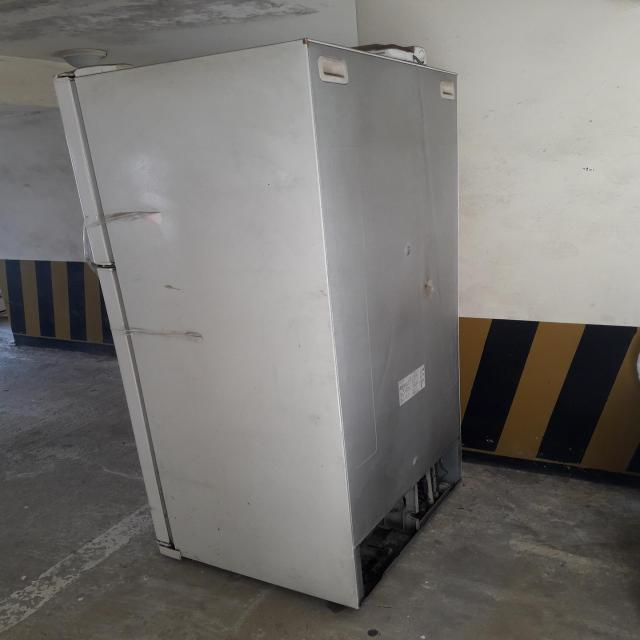refrigerator: (57, 37, 466, 609)
